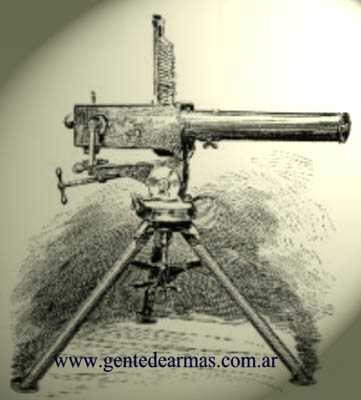rifle: (20, 61, 351, 357)
